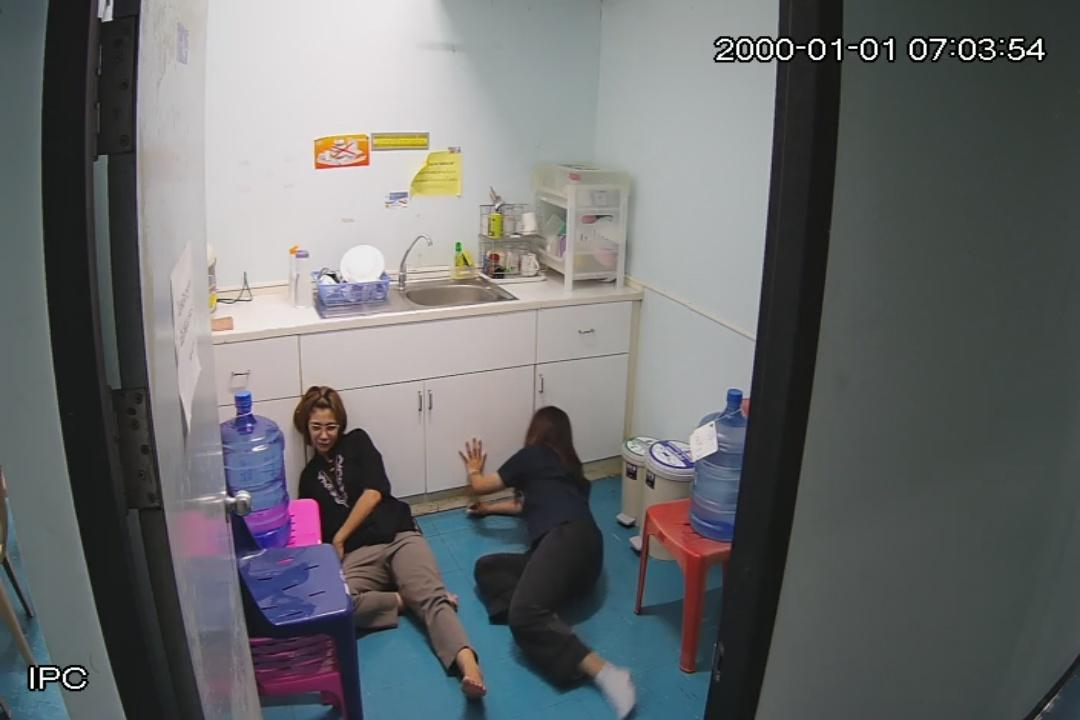fall: (282, 380, 488, 696), (472, 390, 618, 712)
